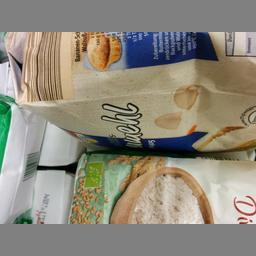flour: (6, 31, 254, 154), (63, 150, 255, 224)
